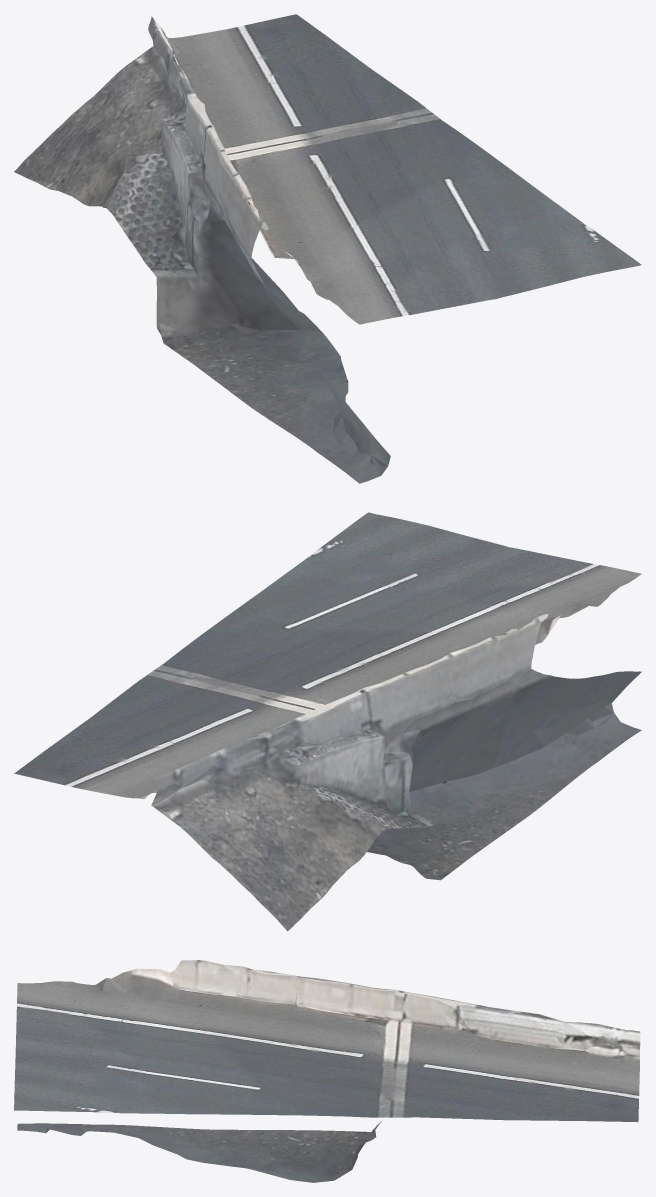
Rendered from Tile_+009_+003_L21_0uuuu100.glb.
The picture shows the model from 3 angles, top to bottom: view 1: azimuth 30°, elevation 25°; view 2: azimuth 150°, elevation 25°; view 3: azimuth 270°, elevation 25°; orthographic projection. The views are drawn at different scales.
Visible parts, largest first — view 1: rtc; view 2: rtc; view 3: rtc.
Part boxes in pixels (bbox=[...]): rtc: bbox=[14, 14, 641, 483]; rtc: bbox=[14, 512, 641, 931]; rtc: bbox=[14, 960, 640, 1182].
Size of the model in its own units: 10.99 by 7.15 by 23.47.
Materials: 1 (1 with a texture image).
